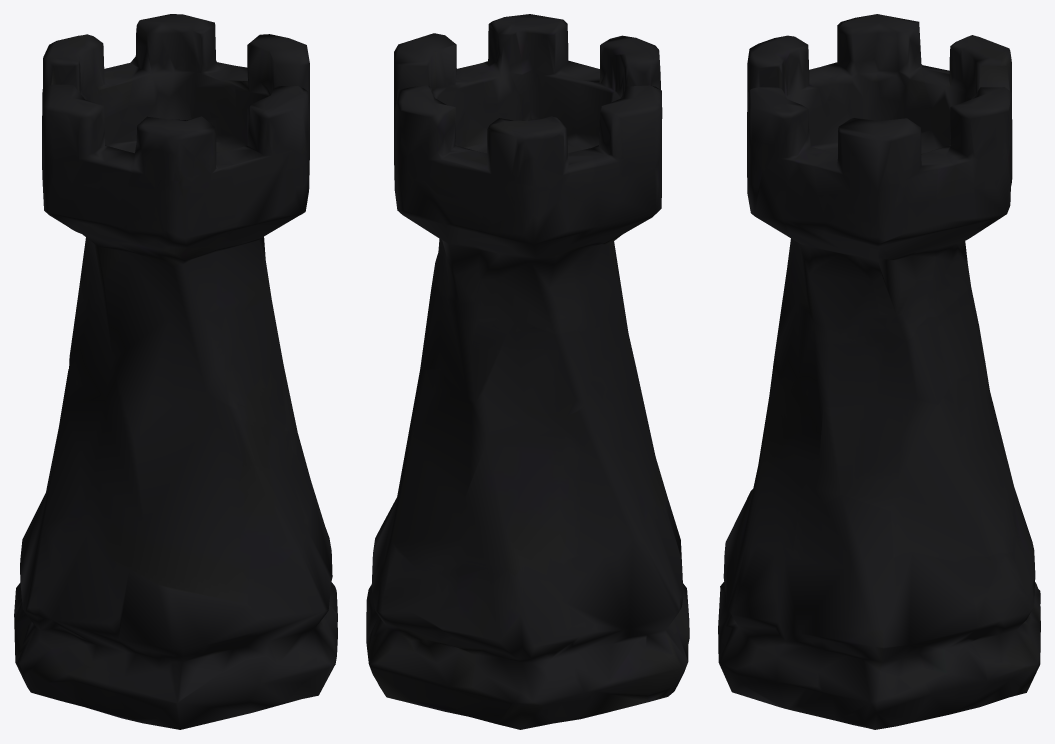
The model's file is hexa_rook_black.glb.
3 views of the same model, side by side, from view 1: azimuth 30°, elevation 25°; view 2: azimuth 150°, elevation 25°; view 3: azimuth 270°, elevation 25° (orthographic).
Size of the model in its own units: 1.12 by 2 by 0.998.
1 material, 1 textured.
